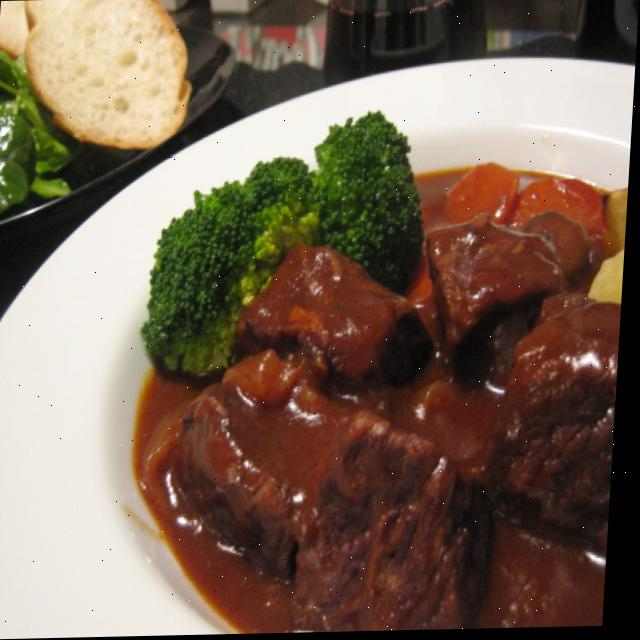汤锅炖物: (0, 56, 637, 640)
